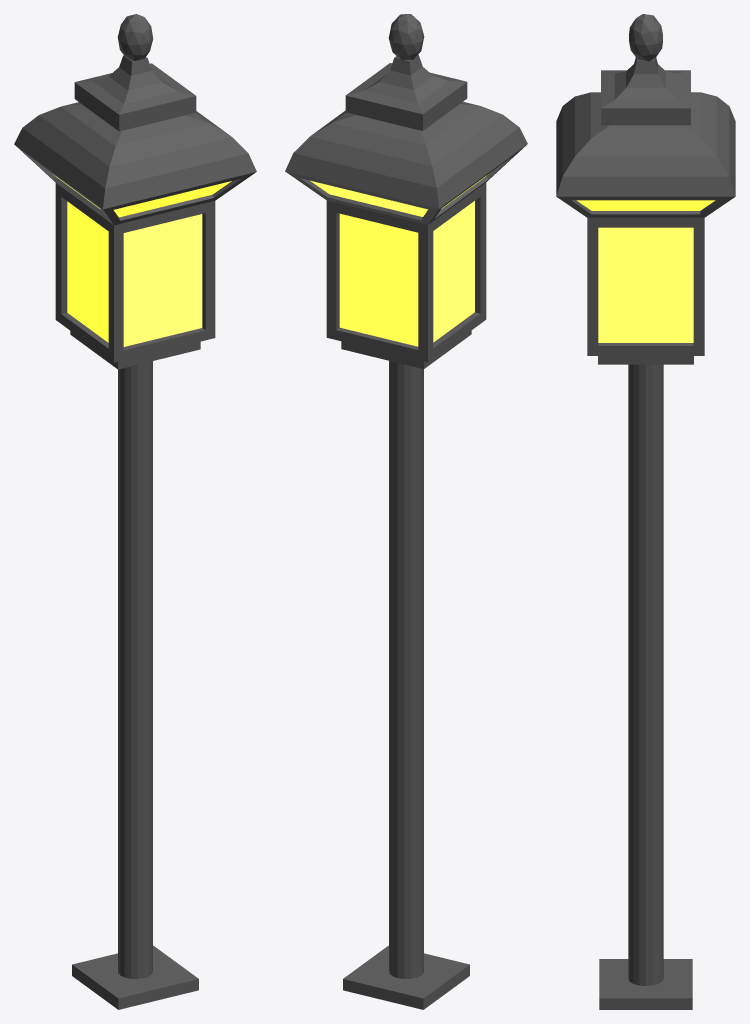
The model's file is Lamp2.fbx.
The picture shows the model from 3 angles, left to right: view 1: azimuth 30°, elevation 25°; view 2: azimuth 150°, elevation 25°; view 3: azimuth 270°, elevation 25°; orthographic projection.
Visible parts, largest first — view 1: lamp2.head, lamp2.pole, lamp2.light, lamp2.base, lamp2.top; view 2: lamp2.head, lamp2.pole, lamp2.light, lamp2.base, lamp2.top; view 3: lamp2.head, lamp2.pole, lamp2.light, lamp2.base, lamp2.top.
Part boxes in pixels (bbox=[...]): lamp2.head: bbox=[14, 55, 256, 369]; lamp2.pole: bbox=[118, 361, 152, 978]; lamp2.light: bbox=[53, 174, 231, 346]; lamp2.base: bbox=[72, 945, 198, 1009]; lamp2.top: bbox=[117, 14, 153, 60]; lamp2.head: bbox=[285, 55, 527, 369]; lamp2.pole: bbox=[389, 361, 423, 978]; lamp2.light: bbox=[310, 174, 488, 346]; lamp2.base: bbox=[343, 945, 469, 1009]; lamp2.top: bbox=[388, 14, 424, 60]; lamp2.head: bbox=[556, 57, 735, 364]; lamp2.pole: bbox=[628, 364, 663, 985]; lamp2.light: bbox=[576, 200, 715, 342]; lamp2.base: bbox=[599, 959, 692, 1009]; lamp2.top: bbox=[629, 14, 662, 61].
Bounding box in the file's own units: 3.83 × 3.83 × 23.
